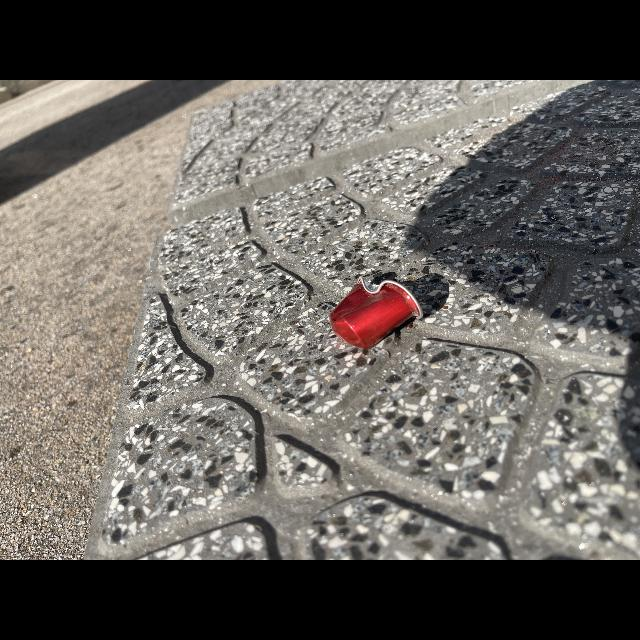damaged_capsule: (322, 264, 446, 358)
